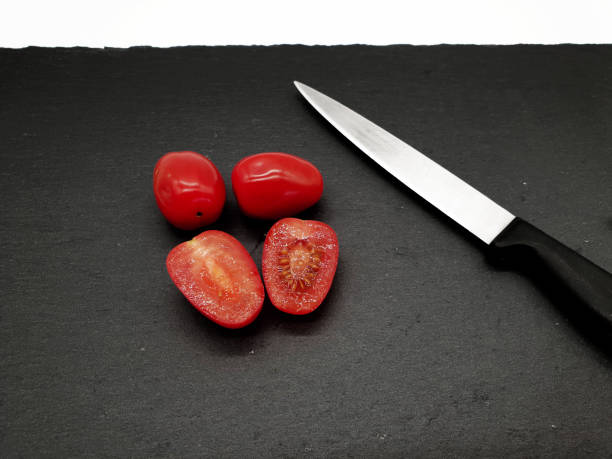knife: (287, 68, 612, 369)
